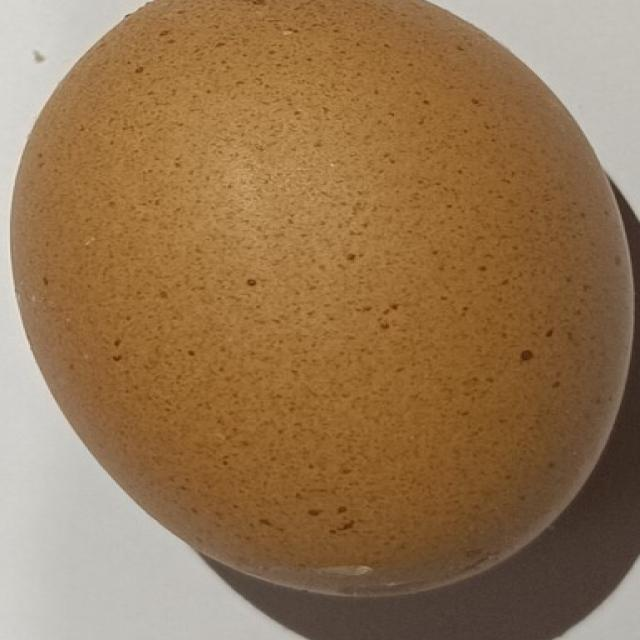unfresh: (8, 0, 622, 590)
